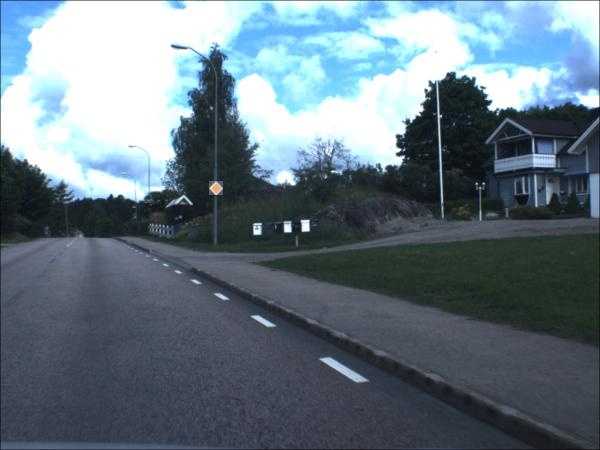PRIORITY_ROAD: (210, 182, 225, 197)
